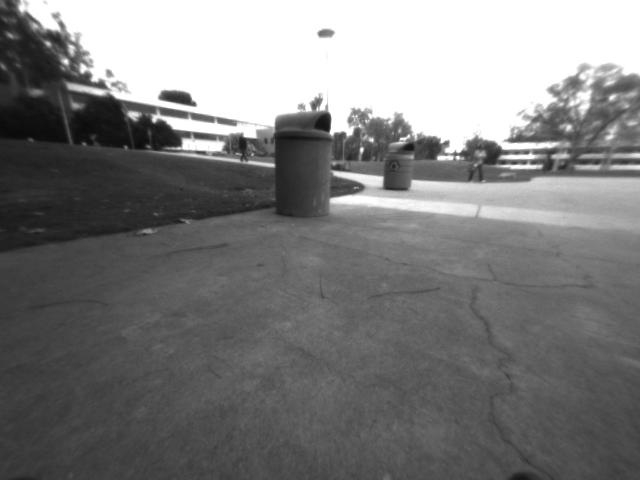trashcan: (268, 107, 337, 222)
